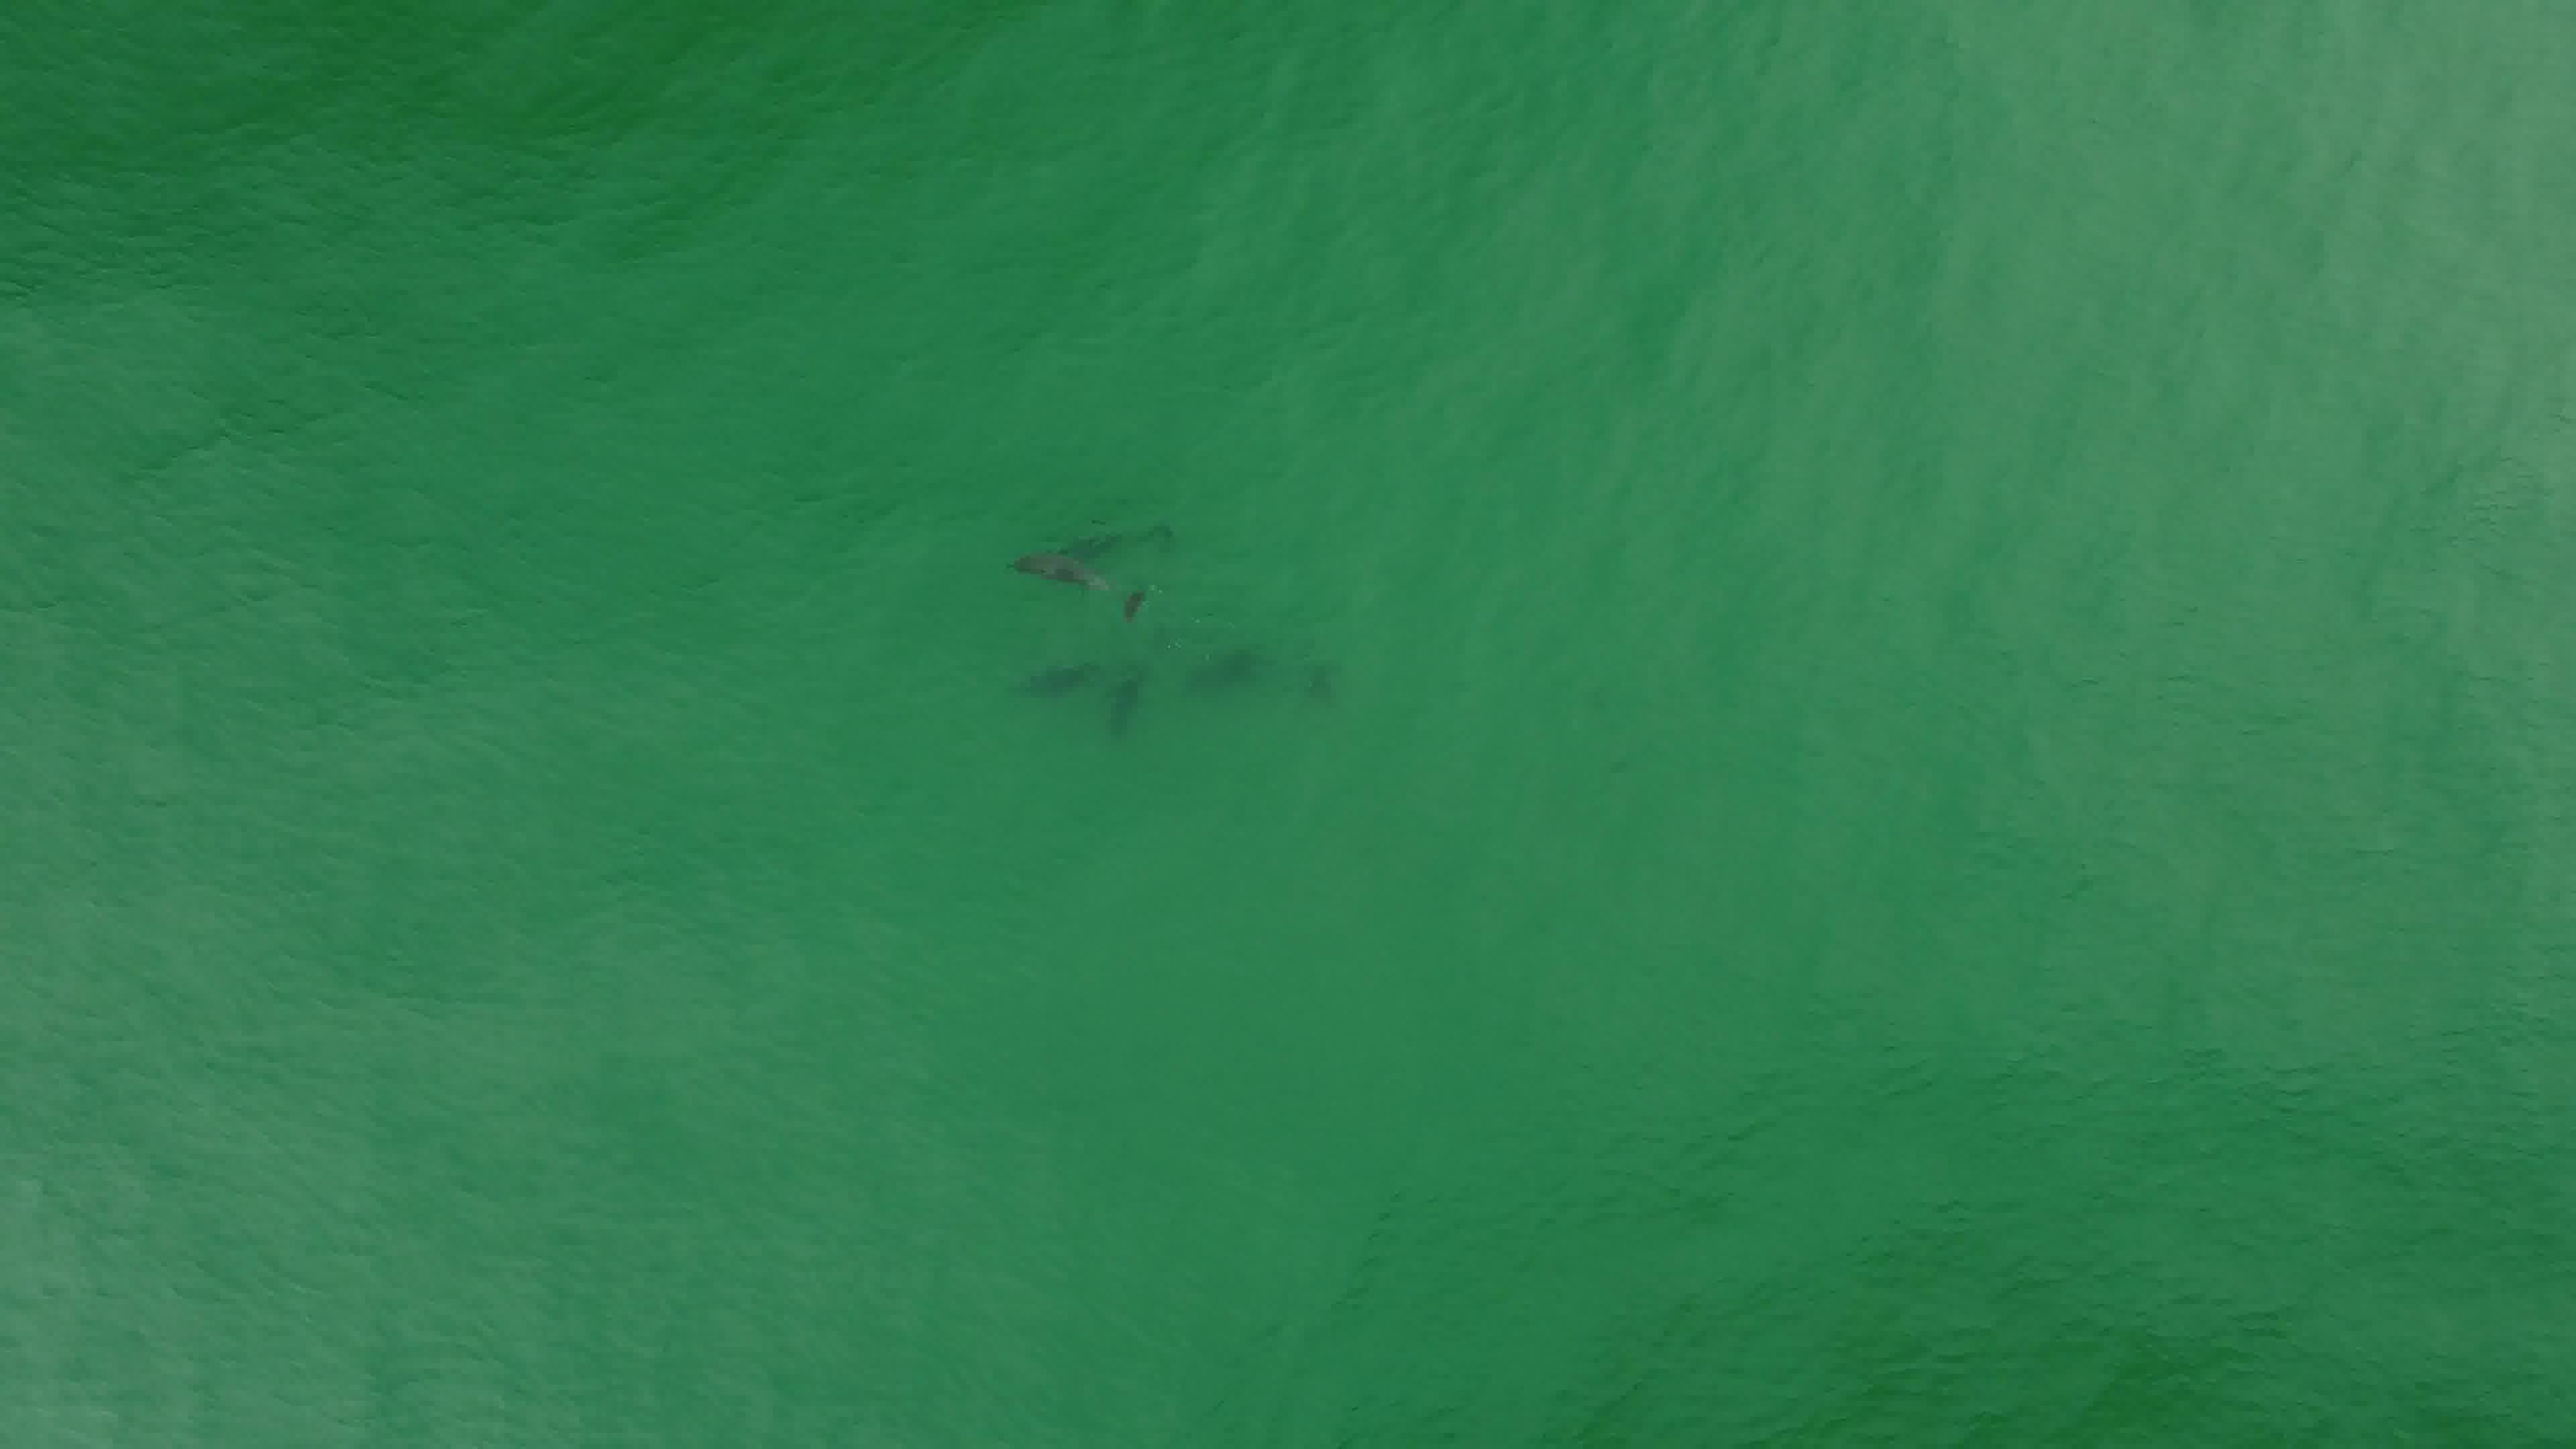dolphin: (895, 485, 1200, 644)
